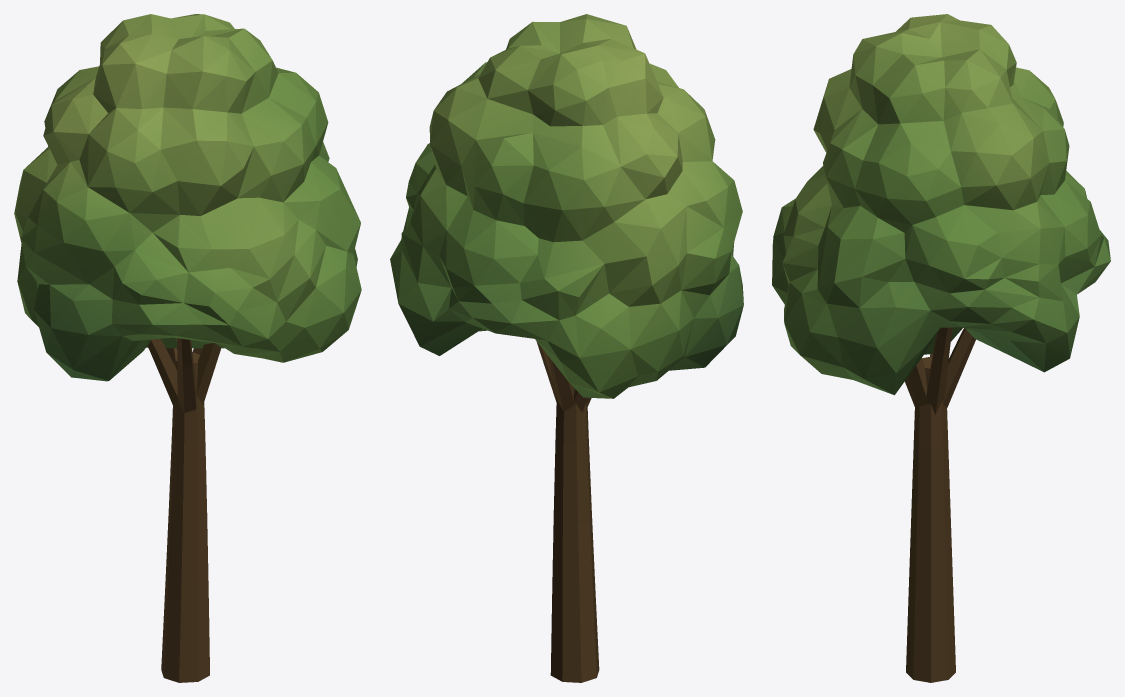
File: ChestnutA.glb
3 views of the same model, side by side, from view 1: azimuth 30°, elevation 25°; view 2: azimuth 150°, elevation 25°; view 3: azimuth 270°, elevation 25° (orthographic).
Parts seen in each view (by area): view 1: ChestnutA_LOD0; view 2: ChestnutA_LOD0; view 3: ChestnutA_LOD0.
Part boxes in pixels (x1,y1,x2,y2): ChestnutA_LOD0: (14, 14, 361, 682); ChestnutA_LOD0: (390, 14, 743, 682); ChestnutA_LOD0: (772, 14, 1110, 682).
Size of what is drawn, in the model's own units: 3.51 by 7.11 by 3.41.
